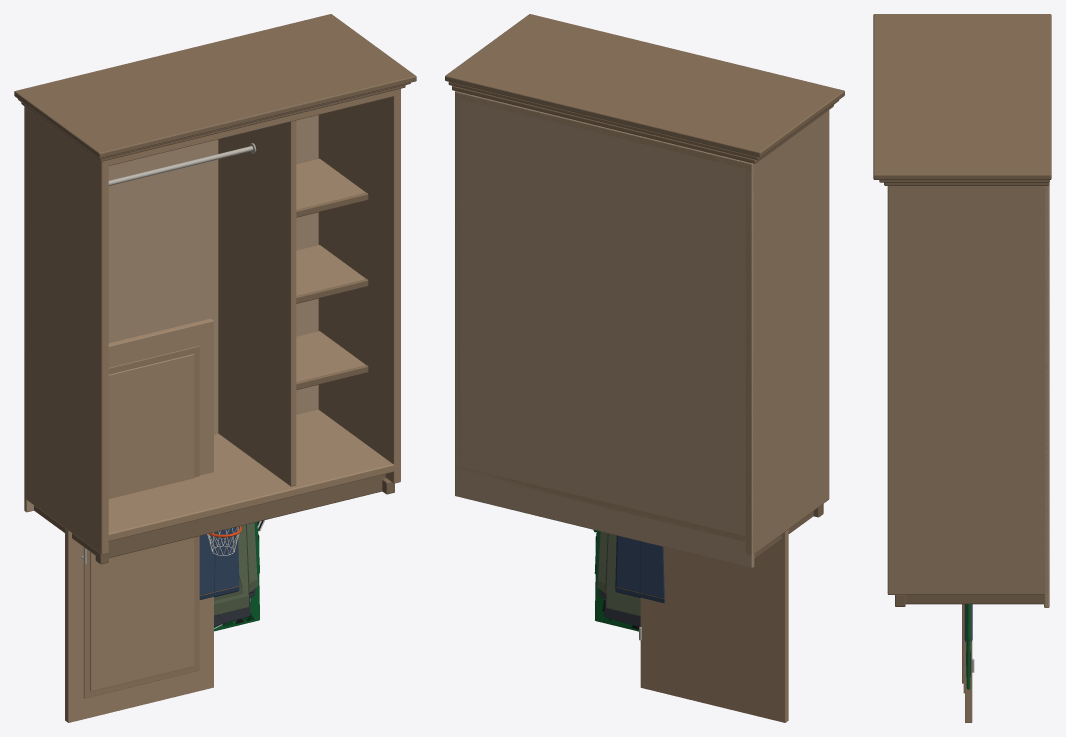
File: kit.glb
3 views of the same model, side by side, from view 1: azimuth 30°, elevation 25°; view 2: azimuth 150°, elevation 25°; view 3: azimuth 270°, elevation 25° (orthographic). The views are drawn at different scales.
Parts seen in each view (by area): view 1: Armari, Porta, PantalonsLlargs, Dessuadora; view 2: Armari, Porta, PantalonsLlargs, Dessuadora; view 3: Armari, Porta, Partit1ra.
Part boxes in pixels (x1,y1,x2,y2): Armari: (14,14,416,564); Porta: (65,318,213,722); PantalonsLlargs: (199,527,239,599); Dessuadora: (214,522,257,615); Armari: (445,14,844,568); Porta: (639,529,788,722); PantalonsLlargs: (615,535,664,602); Dessuadora: (597,531,640,616); Armari: (873,14,1051,607); Porta: (962,604,974,722); Partit1ra: (966,604,970,689).
Size of the model in its own units: 2.12 by 3.86 by 0.99.
